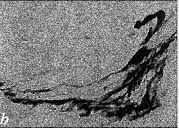anomaly: (121, 21, 168, 122)
